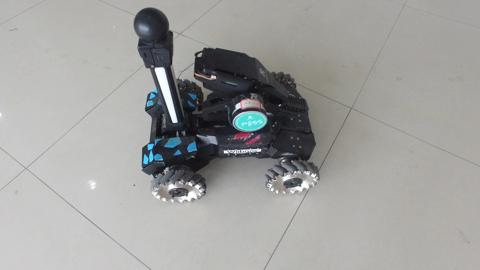chariot: (95, 4, 325, 201)
